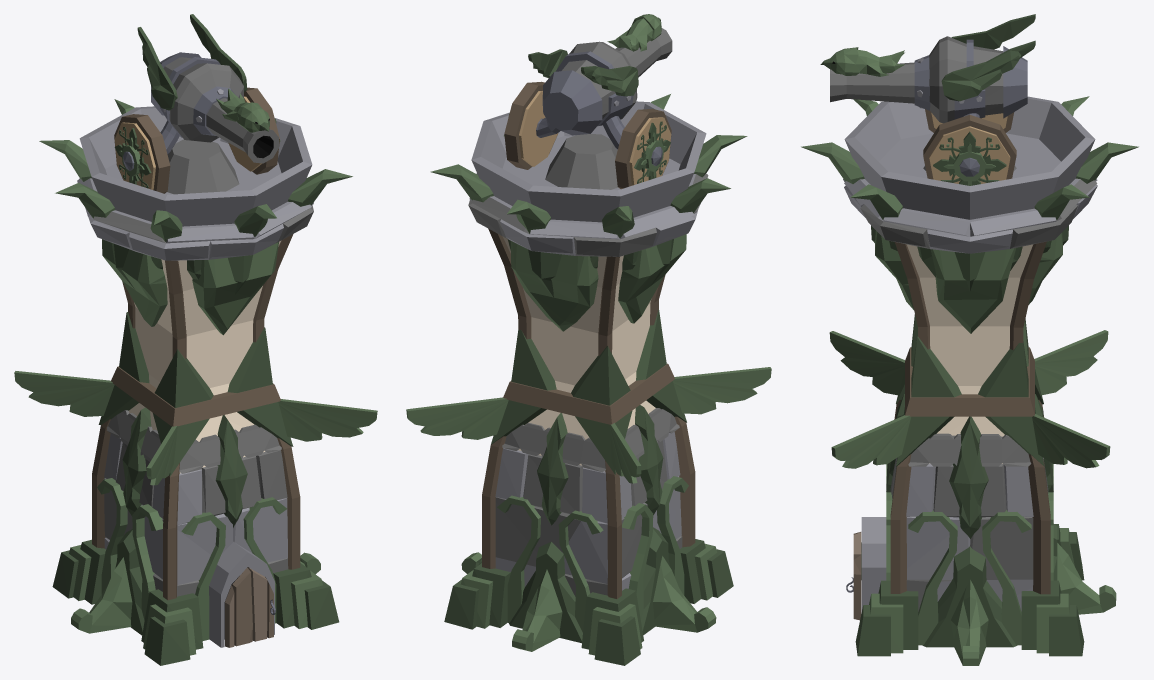
The model's file is _Cannon_tower_LVL_4.fbx.
3 renders of one model, left to right at view 1: azimuth 30°, elevation 25°; view 2: azimuth 150°, elevation 25°; view 3: azimuth 270°, elevation 25°, orthographic. The views are drawn at different scales.
Visible parts, largest first — view 1: Cannon_tower_LVL_4.001, Cannon_tower_LVL_4; view 2: Cannon_tower_LVL_4.001, Cannon_tower_LVL_4; view 3: Cannon_tower_LVL_4.001, Cannon_tower_LVL_4.
Boxes of the visible parts, bbox=[...] form: Cannon_tower_LVL_4.001: bbox=[14, 99, 377, 665]; Cannon_tower_LVL_4: bbox=[114, 14, 280, 193]; Cannon_tower_LVL_4.001: bbox=[406, 94, 771, 665]; Cannon_tower_LVL_4: bbox=[504, 14, 672, 189]; Cannon_tower_LVL_4.001: bbox=[801, 96, 1138, 665]; Cannon_tower_LVL_4: bbox=[820, 14, 1035, 185].
Size of the model in its own units: 746 by 1520 by 802.
